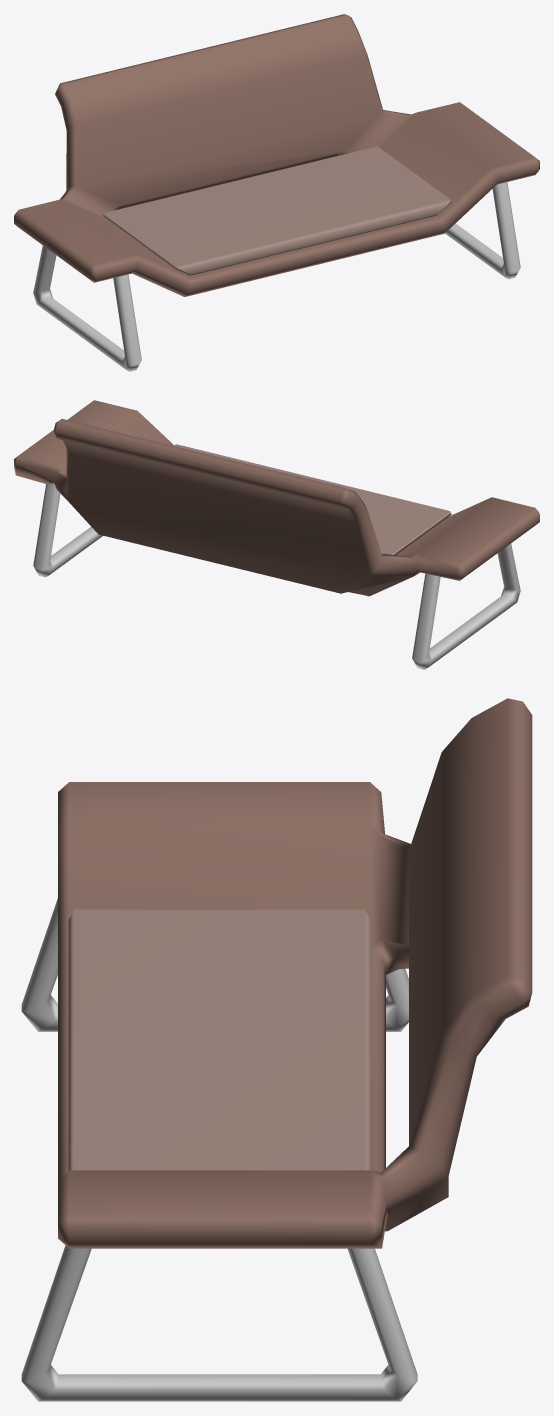
File: sofa_018.fbx
3 renders of one model, top to bottom at view 1: azimuth 30°, elevation 25°; view 2: azimuth 150°, elevation 25°; view 3: azimuth 270°, elevation 25°, orthographic. The views are drawn at different scales.
Visible parts, largest first — view 1: sofa_018; view 2: sofa_018; view 3: sofa_018.
Boxes of the visible parts, x1=… form: sofa_018: x1=14, y1=14, x2=539, y2=371; sofa_018: x1=14, y1=400, x2=539, y2=669; sofa_018: x1=21, y1=698, x2=532, y2=1401.
Size of the model in its own units: 283 by 139 by 113.
